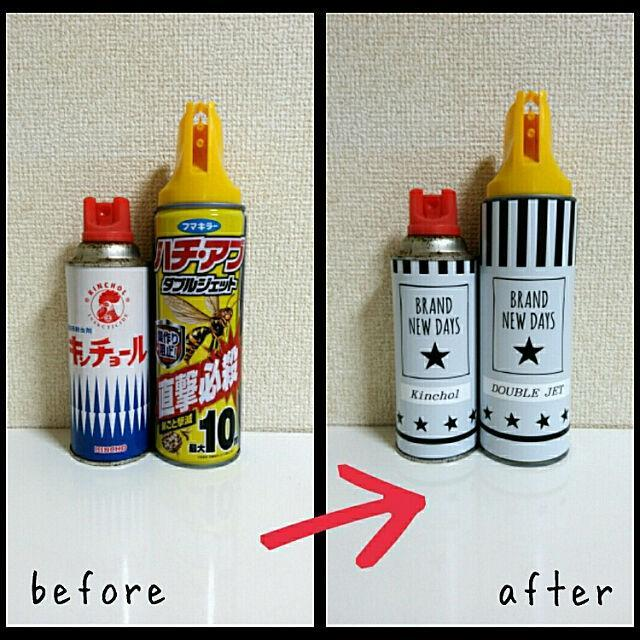chemical_spray_can: (154, 101, 246, 468), (65, 197, 149, 464)
